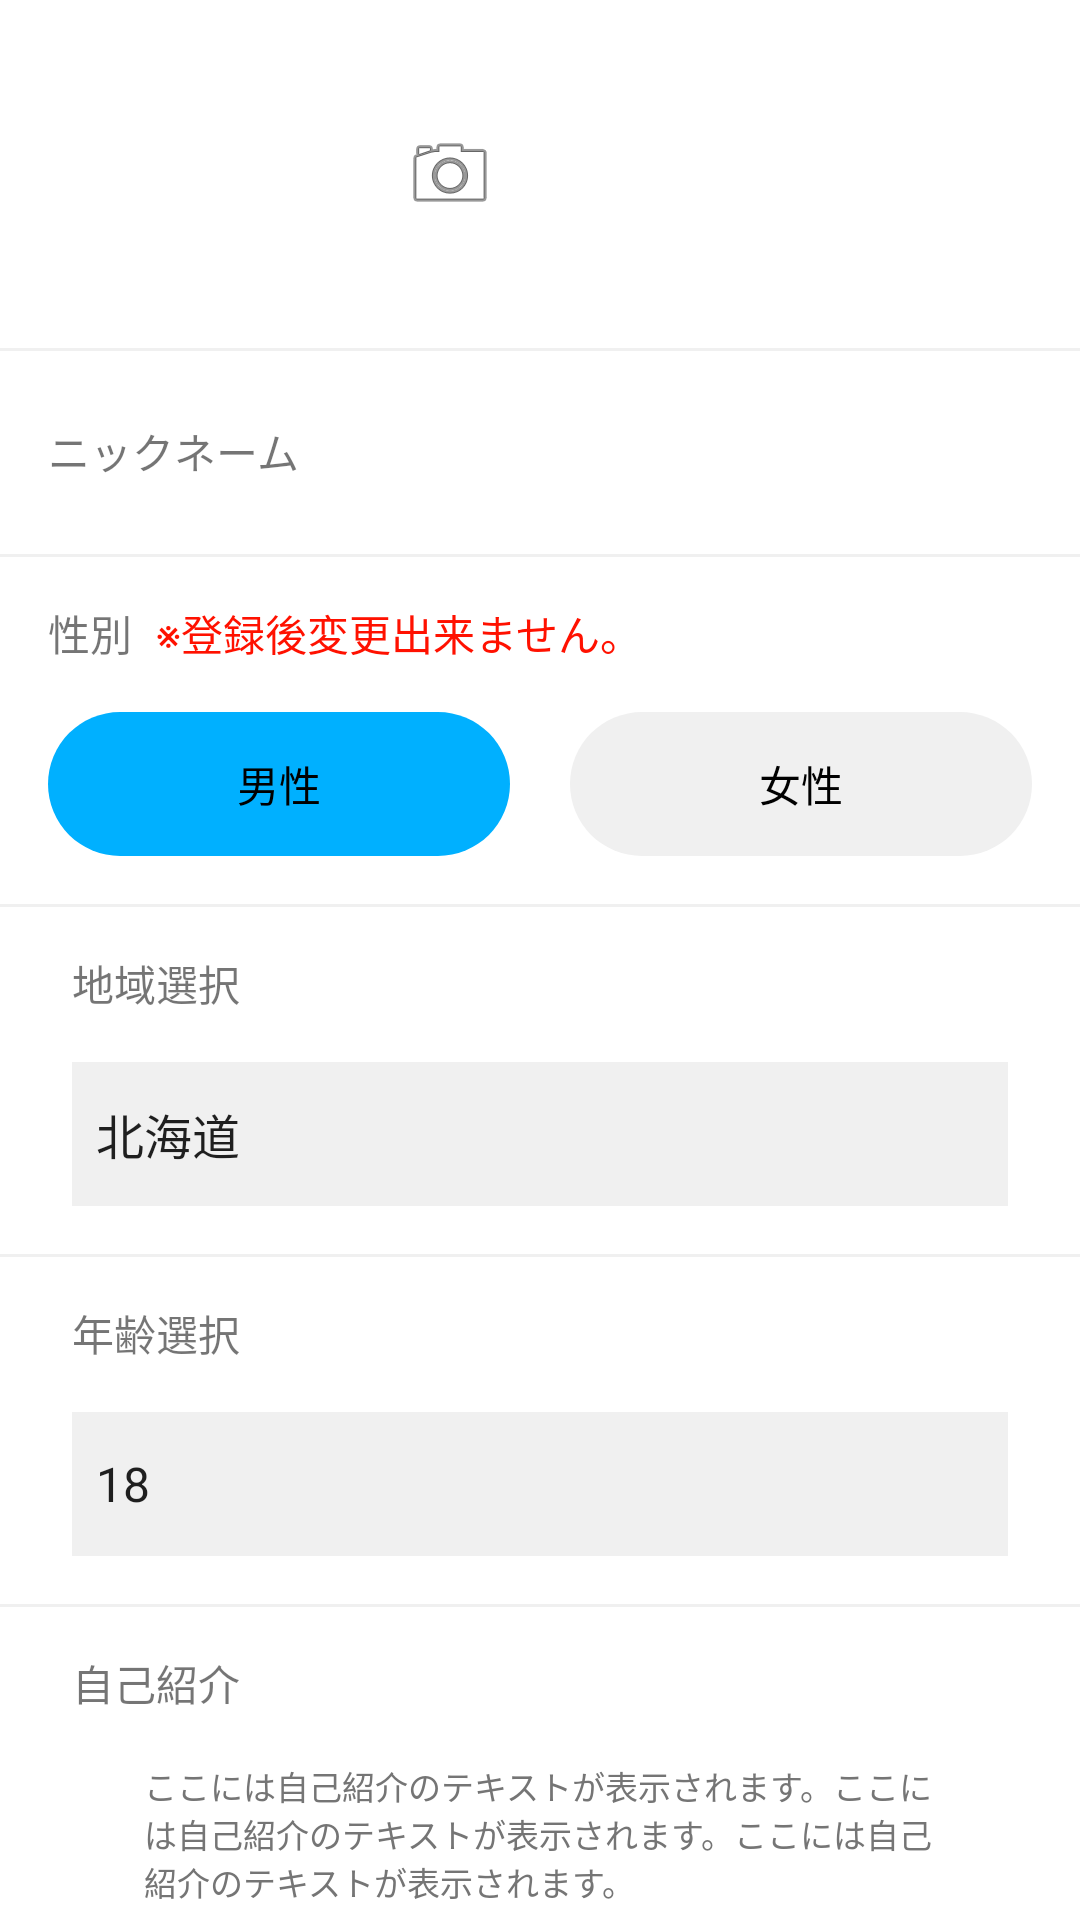

Icons on this 1080x1920 Android screen, each with the point to tap as (x=x, y=y):
プロフィール写真: (x=450, y=172)
